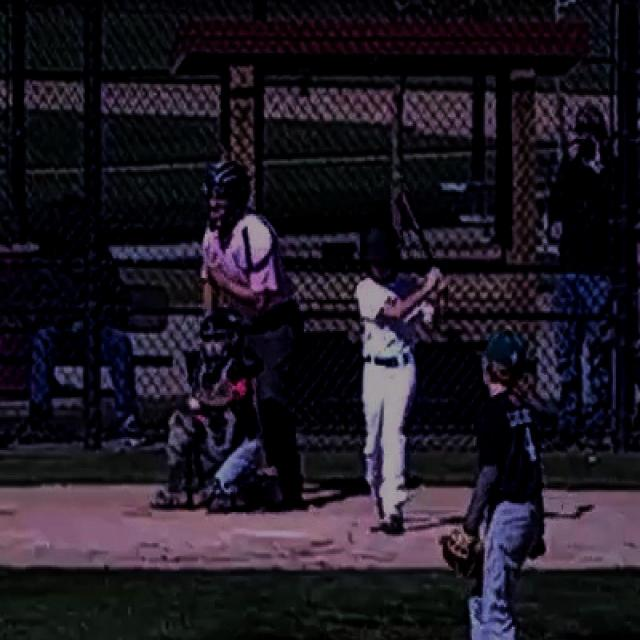baseball: (187, 397, 201, 410)
